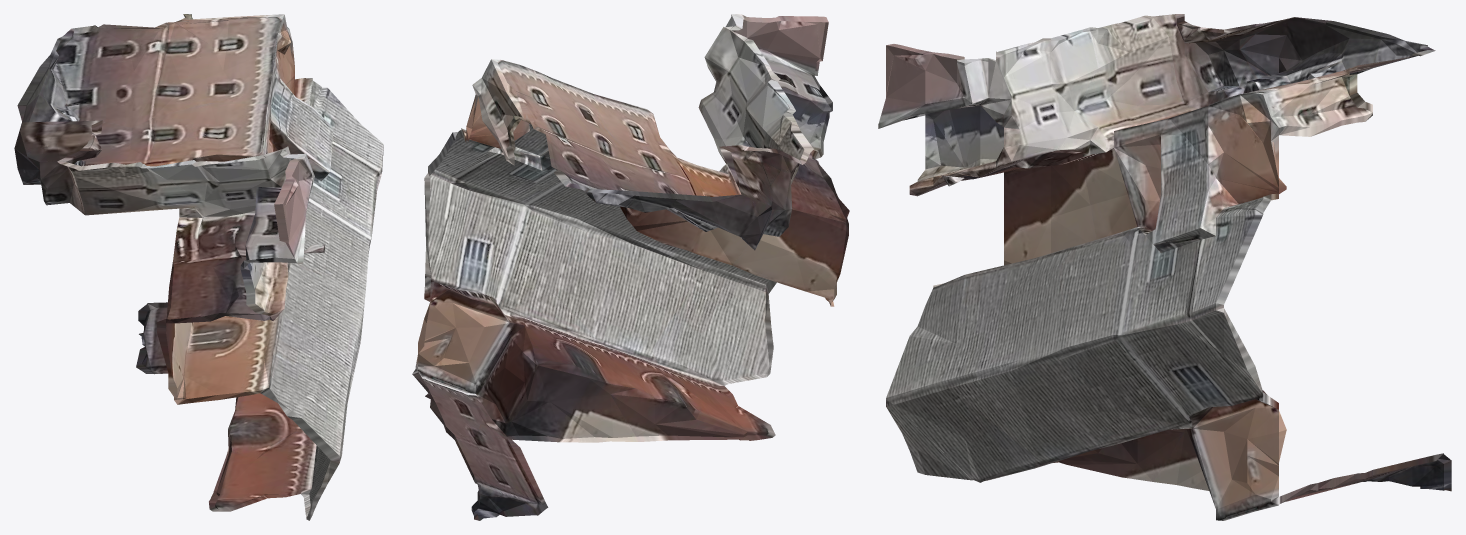
The model's file is exp_model.obj.
3 views of the same model, side by side, from view 1: azimuth 30°, elevation 25°; view 2: azimuth 150°, elevation 25°; view 3: azimuth 270°, elevation 25° (orthographic). The views are drawn at different scales.
Parts seen in each view (by area): view 1: g_0_0, g_0_1; view 2: g_0_1, g_0_0; view 3: g_0_0, g_0_1.
Part boxes in pixels (x1,y1,x2,y2): g_0_0: (14,17,383,520); g_0_1: (14,14,314,508); g_0_1: (415,14,849,520); g_0_0: (412,25,833,515); g_0_0: (881,14,1451,510); g_0_1: (878,15,1451,520).
Bounding box in the file's own units: 30 × 32.44 × 36.5.
2 materials, 2 textured.
